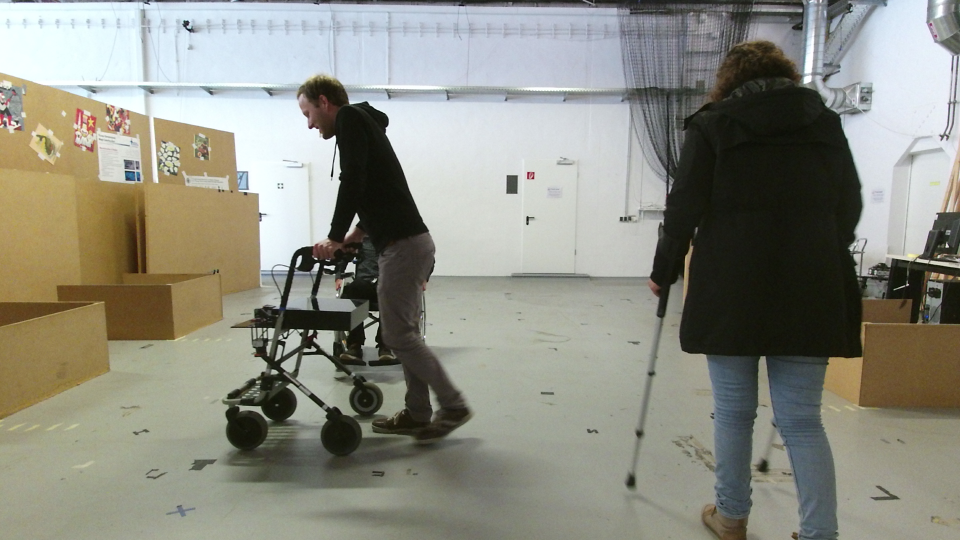crutches: (613, 34, 871, 540)
